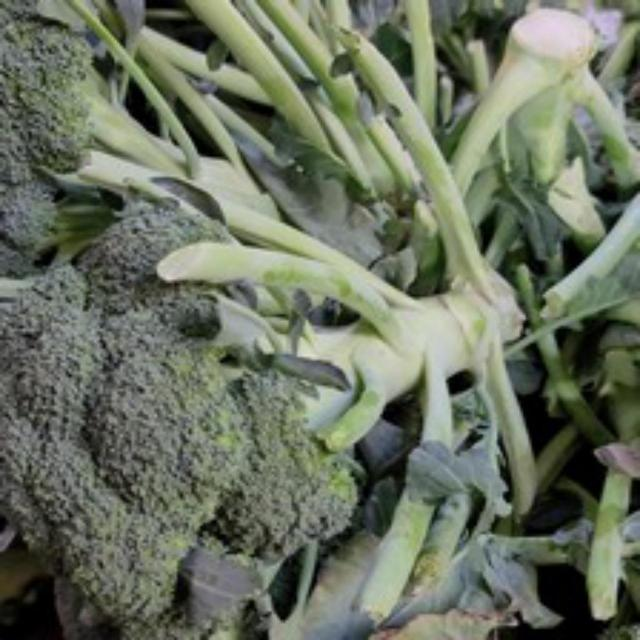broccoli: (0, 200, 351, 637)
